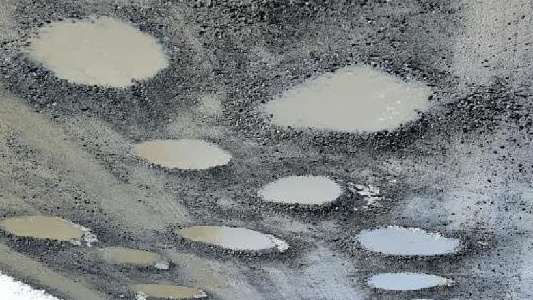pothole: (243, 57, 448, 148), (18, 13, 181, 99), (344, 223, 472, 267), (169, 223, 296, 266), (131, 136, 239, 177), (256, 174, 350, 216), (0, 212, 94, 247), (362, 272, 459, 296), (88, 245, 168, 271), (124, 280, 213, 299)
